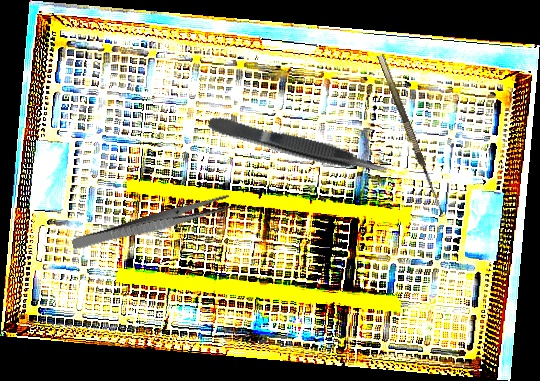Dressing Forceps: (70, 192, 234, 256)
Hook Surgical: (377, 50, 453, 216)
Tissue Forceps: (206, 109, 391, 184)
